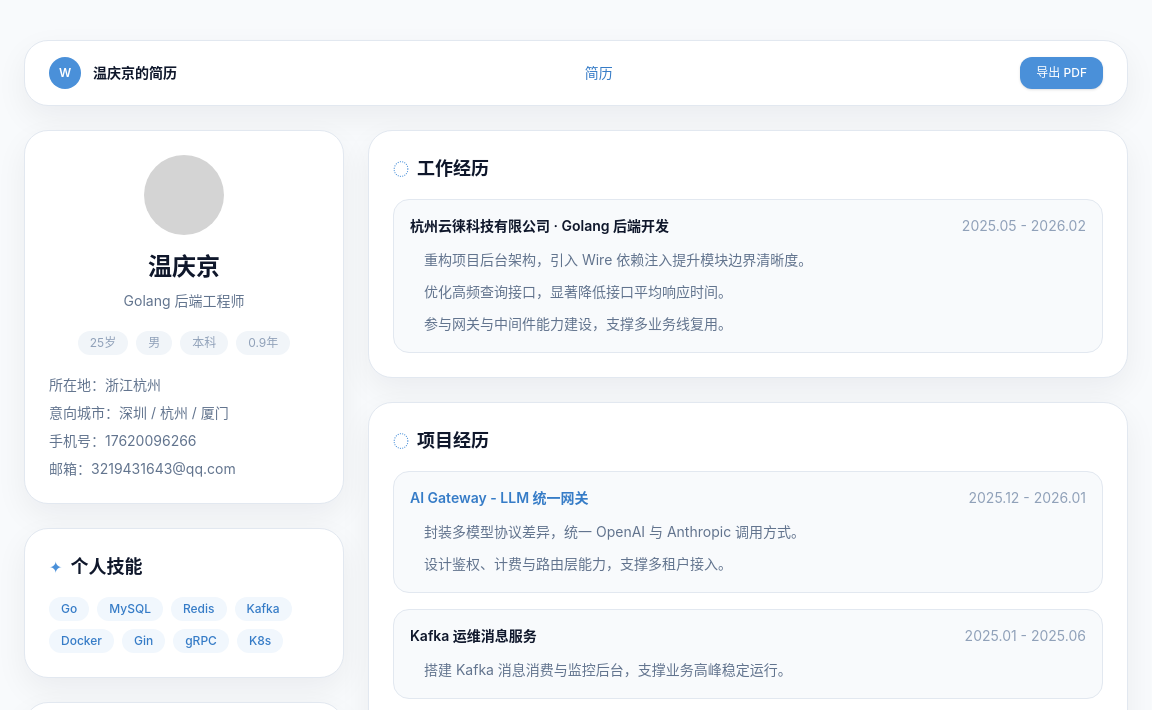
Test: routing smoke test › navigates from the resume export action to the print page
This screenshot has width=1152, height=710.
Click the button "导出 PDF". click: (1062, 73)
box: [1020,57,1103,89]
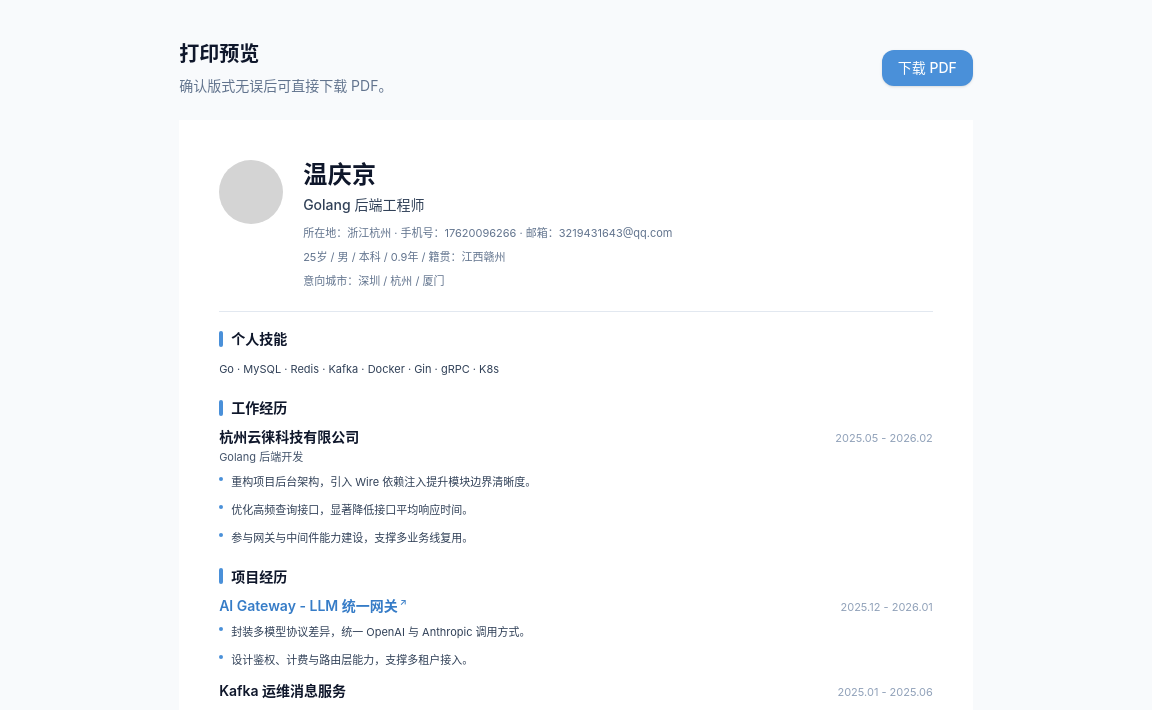
Result: the heading "打印预览" is shown at [179,42,259,66]
